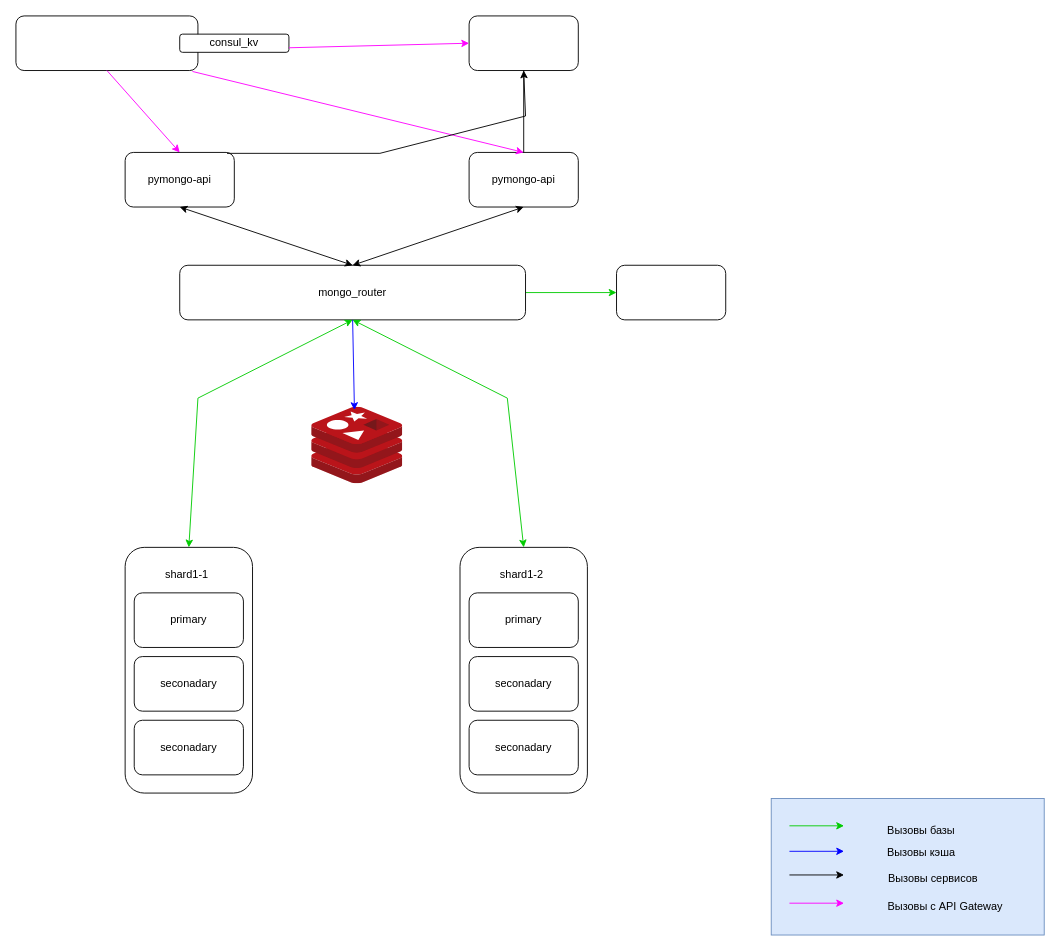
Some shapes in this 1060 by 951 pixel diagram are drawn without their labels. The shapes that lost their labels are listed below. From the top down, each one's centre as x and y in pixels, then its label:
[106,43]: APISIX Gateway
[523,43]: Consul
[671,292]: configSrv
[356,445]: redis
